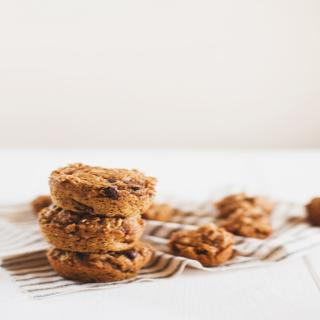Cookie: (49, 162, 158, 217), (36, 203, 148, 250), (44, 243, 156, 282), (214, 192, 278, 241), (168, 222, 236, 266), (141, 202, 174, 222), (302, 195, 320, 224), (31, 195, 52, 214)
Muffin: (28, 163, 320, 283)
